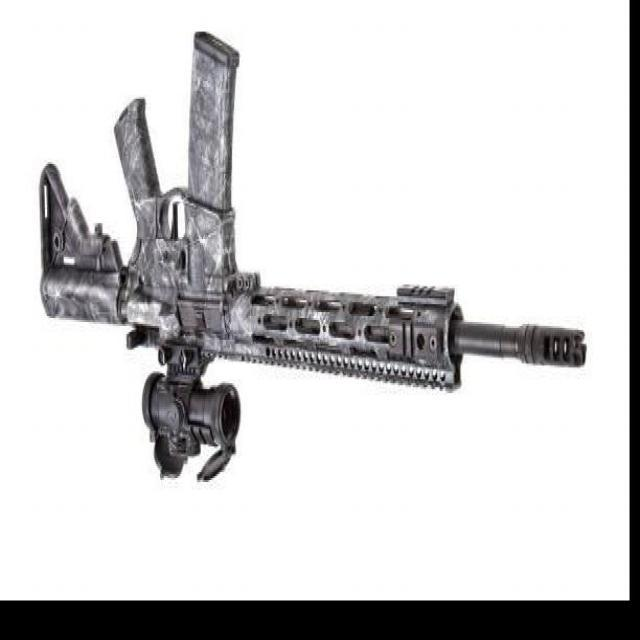weapon: (38, 31, 586, 483)
